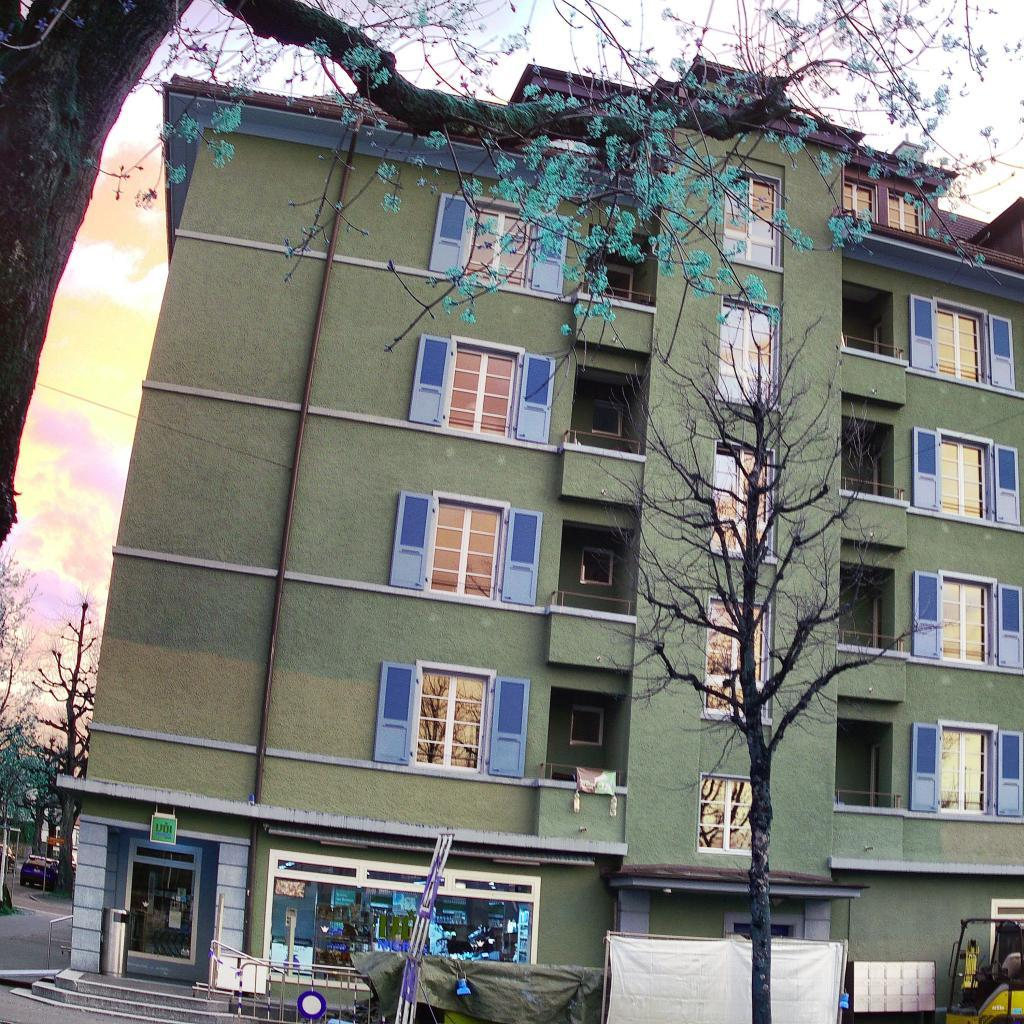balcony-fence: (550, 589, 636, 616), (563, 429, 644, 455), (539, 762, 622, 787), (578, 281, 655, 306), (842, 332, 905, 360), (837, 629, 906, 653), (841, 476, 905, 501), (834, 789, 902, 809)
car: (19, 854, 58, 891), (0, 843, 18, 874)
facade: (85, 56, 1021, 1024)
non-building-infrastructure: (235, 929, 945, 1024)
shop: (56, 773, 622, 1024)
street: (0, 843, 585, 1024)
traffic-infrastructure: (394, 832, 458, 1024), (296, 989, 328, 1024)
window: (702, 594, 772, 721), (710, 438, 777, 562), (416, 670, 489, 773), (428, 502, 502, 600), (718, 295, 780, 406), (724, 164, 781, 267), (464, 206, 531, 288), (696, 772, 757, 857), (941, 728, 989, 814), (943, 580, 988, 665), (942, 438, 986, 520), (937, 307, 981, 384), (840, 174, 878, 223), (888, 187, 926, 236), (579, 545, 615, 587), (569, 705, 604, 747), (600, 261, 634, 302), (591, 398, 624, 438), (872, 594, 883, 649), (870, 744, 878, 806), (872, 452, 882, 496), (873, 322, 880, 353)
